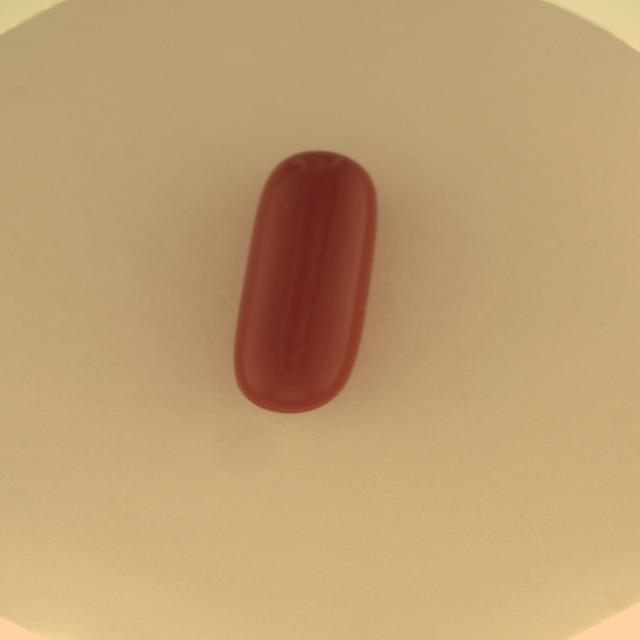Oval: (232, 150, 377, 416)
